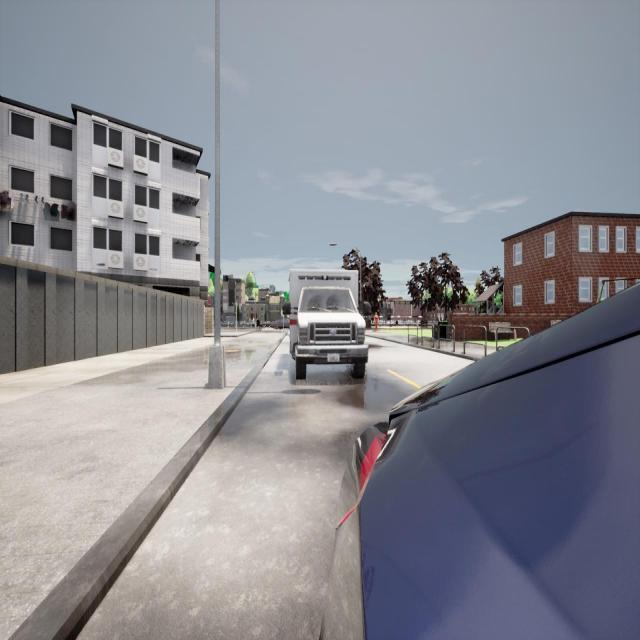Pedestrian: (373, 312, 379, 331)
Vehicle: (318, 285, 639, 640), (282, 266, 368, 380)
